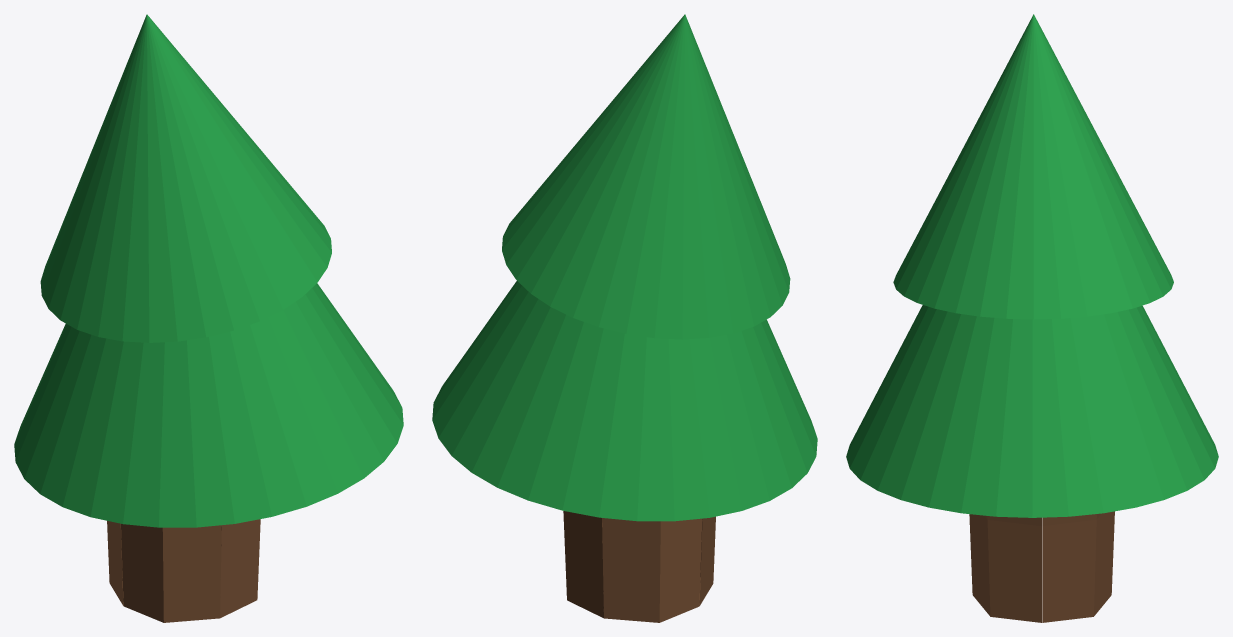
The model's file is tree_4.fbx.
3 views of the same model, side by side, from view 1: azimuth 30°, elevation 25°; view 2: azimuth 150°, elevation 25°; view 3: azimuth 270°, elevation 25° (orthographic). The views are drawn at different scales.
Visible parts, largest first — view 1: Конус, Конус.001, Cube; view 2: Конус, Конус.001, Cube; view 3: Конус, Конус.001, Cube.
Part boxes in pixels (box(x1,y1,x2,y2)): Конус: box(14, 283, 403, 527); Конус.001: box(40, 14, 331, 342); Cube: box(107, 519, 260, 622); Конус: box(432, 281, 817, 521); Конус.001: box(502, 14, 790, 339); Cube: box(563, 511, 715, 622); Конус: box(846, 305, 1218, 517); Конус.001: box(893, 14, 1173, 319); Cube: box(969, 511, 1114, 622).
Bounding box in the file's own units: 457 × 765 × 460.
